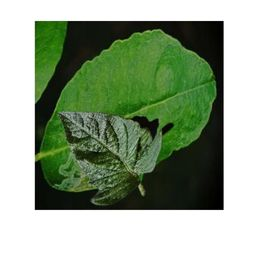liriomyza: (52, 149, 96, 192)
